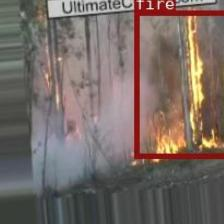fire: (133, 9, 224, 158)
